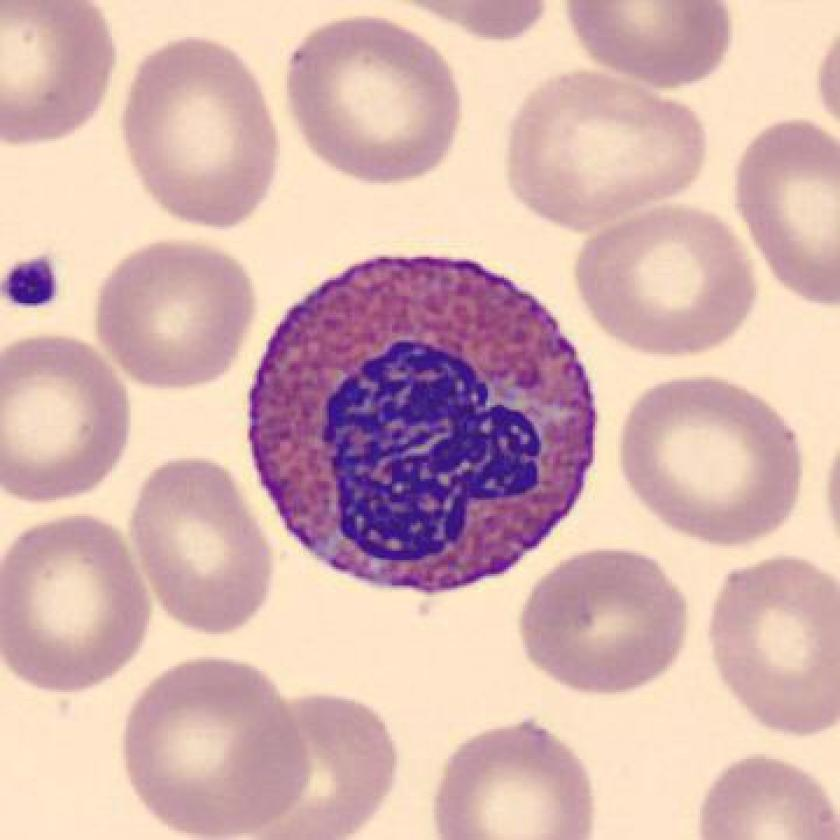eosinophil: (227, 240, 617, 610)
